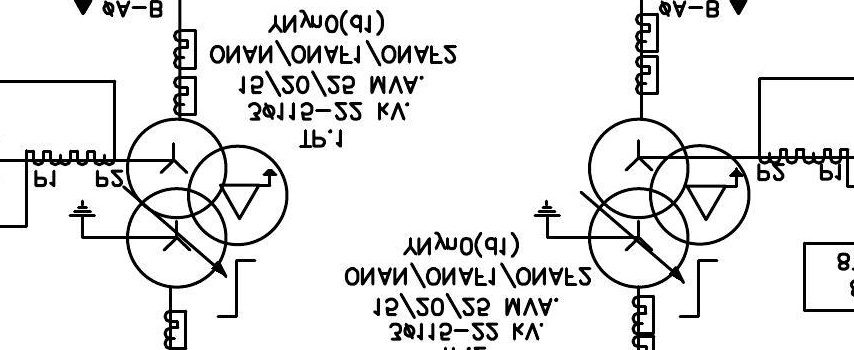11522_tx_ynyn0d1: (125, 116, 290, 290), (587, 116, 752, 290)
